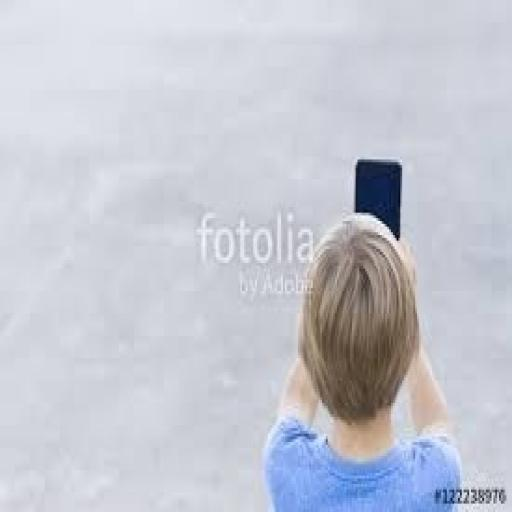texting: (260, 210, 464, 509)
